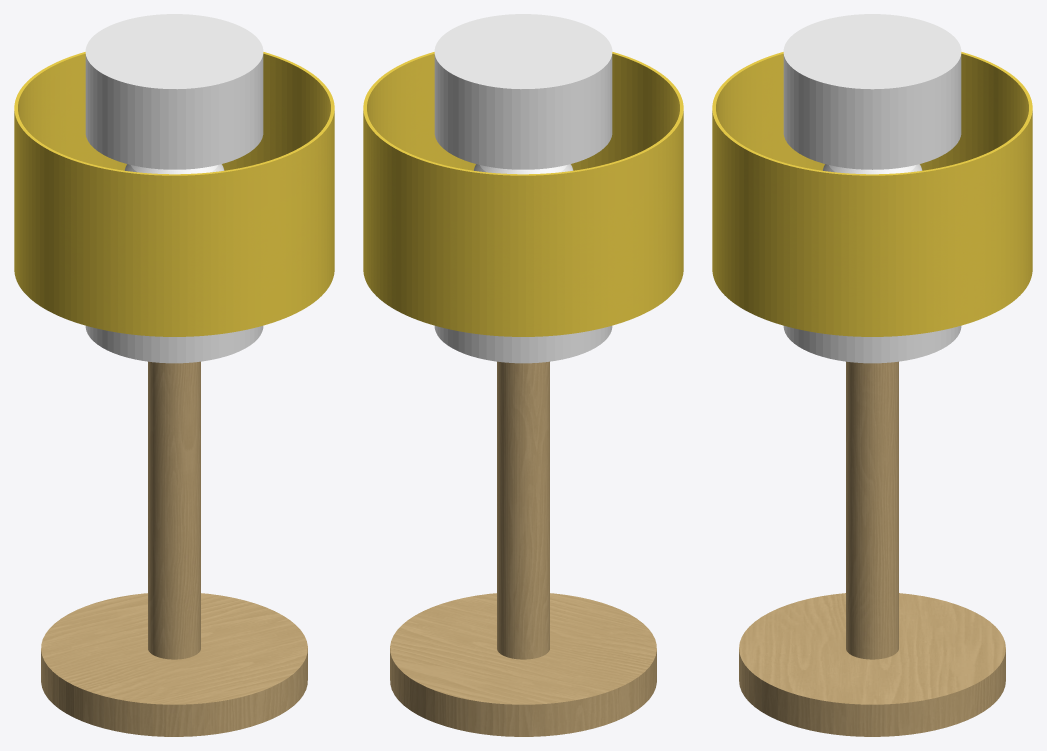
File: YELLOW_OFF.glb
3 renders of one model, left to right at view 1: azimuth 30°, elevation 25°; view 2: azimuth 150°, elevation 25°; view 3: azimuth 270°, elevation 25°, orthographic.
Visible parts, largest first — view 1: SHELL, BASE, INNER_TOP, INNER_BOT, BULB; view 2: SHELL, BASE, INNER_TOP, INNER_BOT, BULB; view 3: SHELL, BASE, INNER_TOP, INNER_BOT, BULB.
Part boxes in pixels (x1,y1,x2,y2): SHELL: [14, 52, 334, 336]; BASE: [41, 361, 307, 736]; INNER_TOP: [85, 14, 263, 169]; INNER_BOT: [85, 326, 263, 363]; BULB: [124, 164, 224, 174]; SHELL: [363, 52, 683, 336]; BASE: [390, 361, 656, 736]; INNER_TOP: [434, 14, 612, 169]; INNER_BOT: [434, 326, 612, 363]; BULB: [473, 164, 573, 174]; SHELL: [712, 52, 1032, 336]; BASE: [739, 361, 1005, 736]; INNER_TOP: [783, 14, 961, 169]; INNER_BOT: [783, 326, 961, 363]; BULB: [822, 164, 922, 174].
Bounding box in the file's own units: 0.18 × 0.39 × 0.18.
3 materials, 3 textured.
